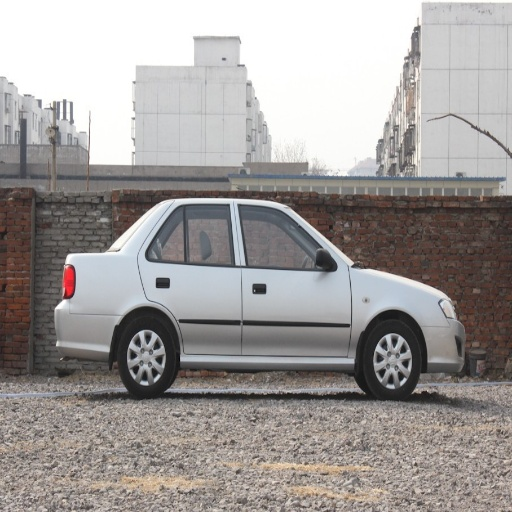back_right_door: (139, 202, 240, 354)
front_right_door: (237, 202, 351, 356)
